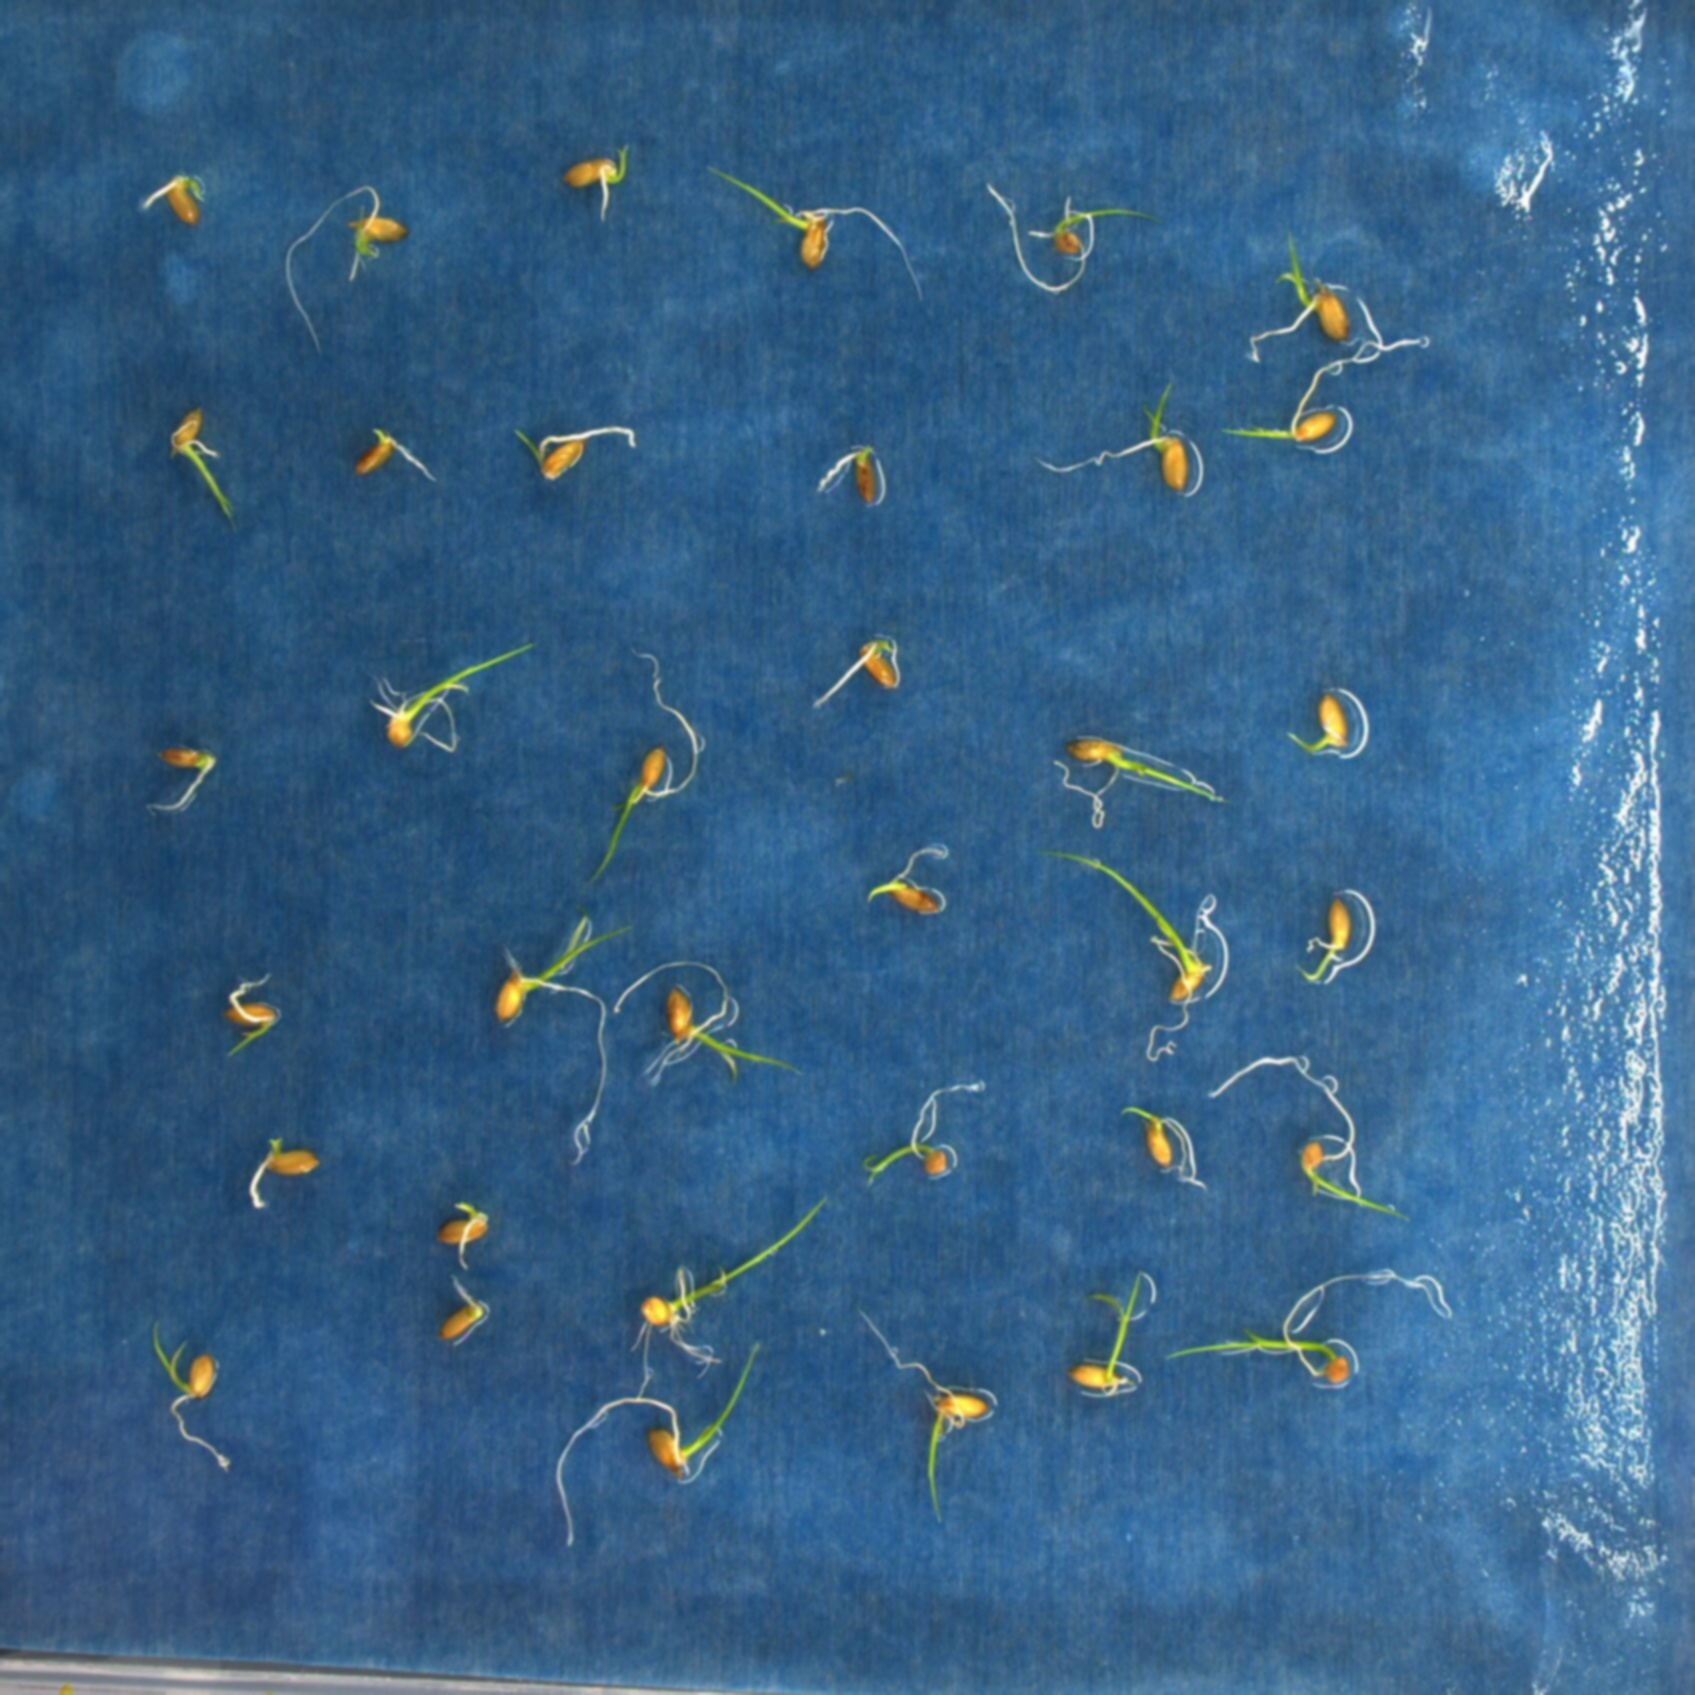not sprout: (813, 638, 899, 711), (248, 1138, 320, 1211), (144, 747, 217, 813), (354, 428, 441, 483), (815, 445, 877, 504), (438, 1274, 486, 1344)
sprout: (554, 1340, 764, 1548), (630, 1194, 830, 1392), (1038, 847, 1214, 1065), (494, 911, 633, 1166), (1211, 1057, 1412, 1225), (1166, 1270, 1453, 1386), (858, 1305, 993, 1527), (584, 647, 698, 893), (706, 165, 924, 293), (613, 958, 809, 1087), (284, 185, 410, 354), (1223, 337, 1420, 442), (989, 182, 1166, 293), (368, 643, 529, 754), (1035, 379, 1187, 494), (1052, 734, 1228, 827), (1250, 231, 1350, 365), (860, 1083, 983, 1191), (151, 1319, 230, 1471), (1068, 1270, 1146, 1391), (168, 410, 233, 522), (512, 424, 635, 483), (1121, 1107, 1208, 1187), (868, 844, 945, 914), (1293, 894, 1352, 986), (563, 141, 629, 224), (224, 970, 279, 1055), (1287, 691, 1350, 754), (438, 1201, 490, 1271), (143, 172, 206, 227)
